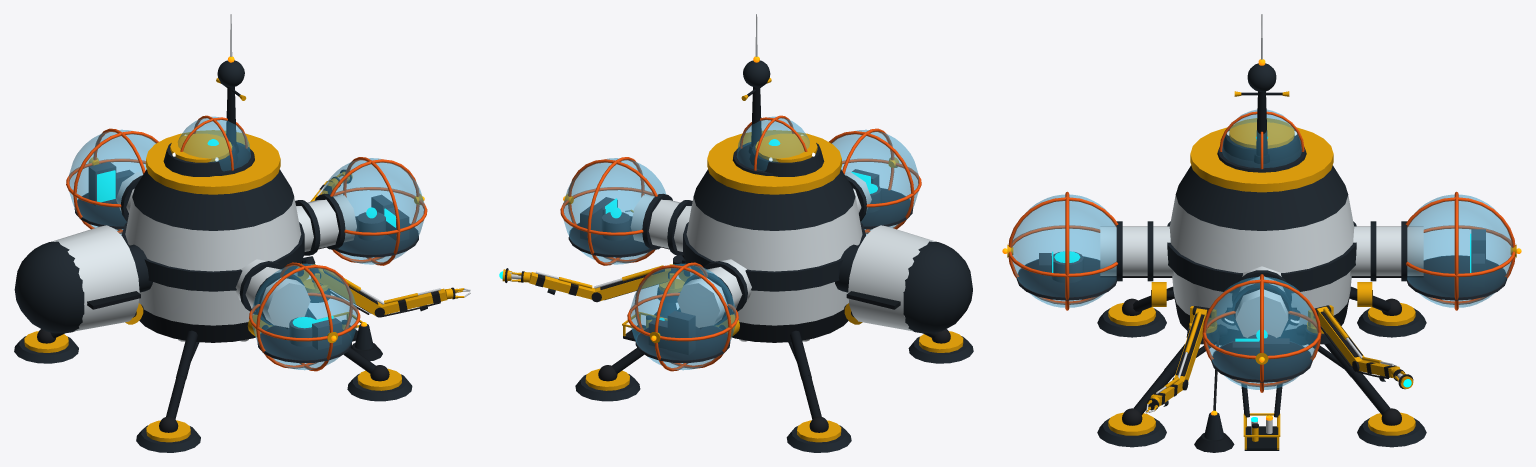
Rendered from demo-deep-sea-station.glb.
3 renders of one model, left to right at view 1: azimuth 30°, elevation 25°; view 2: azimuth 150°, elevation 25°; view 3: azimuth 270°, elevation 25°, orthographic. The views are drawn at different scales.
Visible parts, largest first — view 1: Mesh_Pod_Stbd_Glass, Mesh_Hull_UpperSection, Mesh_Pod_Fwd_Glass, Mesh_Hull_UpperTaper, Mesh_Reactor_Hull, Mesh_Reactor_EndCap, Mesh_Pod_Port_Glass, Mesh_Hull_UpperDeckRim, Mesh_Hull_MachineryBelt, Mesh_Hull_MidBelt, Mesh_Corridor_Stbd_Tube, Mesh_Cupola_Glass (+37 smaller); view 2: Mesh_Pod_Port_Glass, Mesh_Hull_UpperSection, Mesh_Pod_Fwd_Glass, Mesh_Hull_UpperTaper, Mesh_Reactor_Hull, Mesh_Reactor_EndCap, Mesh_Pod_Stbd_Glass, Mesh_Hull_UpperDeckRim, Mesh_Hull_MachineryBelt, Mesh_Hull_MidBelt, Mesh_Corridor_Port_Tube, Mesh_Cupola_Glass (+36 smaller); view 3: Mesh_Pod_Fwd_Glass, Mesh_Pod_Port_Glass, Mesh_Pod_Stbd_Glass, Mesh_Hull_UpperSection, Mesh_Hull_UpperTaper, Mesh_Hull_UpperDeckRim, Mesh_Cupola_Glass, Mesh_Hull_MidBelt, Mesh_Corridor_Stbd_Tube, Mesh_Corridor_Port_Tube, Mesh_Hull_MachineryBelt, Mesh_Pod_Port_Floor (+33 smaller).
Part boxes in pixels (bbox=[...]): Mesh_Pod_Stbd_Glass: bbox=[251, 263, 357, 370]; Mesh_Hull_UpperSection: bbox=[125, 197, 301, 271]; Mesh_Pod_Fwd_Glass: bbox=[322, 158, 424, 264]; Mesh_Hull_UpperTaper: bbox=[132, 169, 294, 230]; Mesh_Reactor_Hull: bbox=[52, 225, 139, 331]; Mesh_Reactor_EndCap: bbox=[14, 241, 84, 333]; Mesh_Pod_Port_Glass: bbox=[68, 129, 155, 235]; Mesh_Hull_UpperDeckRim: bbox=[146, 130, 280, 194]; Mesh_Hull_MachineryBelt: bbox=[138, 267, 298, 325]; Mesh_Hull_MidBelt: bbox=[121, 222, 304, 291]; Mesh_Corridor_Stbd_Tube: bbox=[235, 259, 310, 327]; Mesh_Cupola_Glass: bbox=[178, 116, 250, 170]; Mesh_Pod_Port_Glass: bbox=[630, 263, 736, 370]; Mesh_Hull_UpperSection: bbox=[686, 197, 862, 271]; Mesh_Pod_Fwd_Glass: bbox=[563, 158, 665, 264]; Mesh_Hull_UpperTaper: bbox=[693, 169, 855, 230]; Mesh_Reactor_Hull: bbox=[848, 225, 935, 331]; Mesh_Reactor_EndCap: bbox=[903, 241, 972, 333]; Mesh_Pod_Stbd_Glass: bbox=[831, 129, 919, 235]; Mesh_Hull_UpperDeckRim: bbox=[707, 130, 841, 194]; Mesh_Hull_MachineryBelt: bbox=[689, 267, 848, 325]; Mesh_Hull_MidBelt: bbox=[683, 222, 865, 291]; Mesh_Corridor_Port_Tube: bbox=[677, 259, 751, 327]; Mesh_Cupola_Glass: bbox=[737, 116, 809, 170]; Mesh_Pod_Fwd_Glass: bbox=[1205, 277, 1318, 389]; Mesh_Pod_Port_Glass: bbox=[1407, 194, 1512, 307]; Mesh_Pod_Stbd_Glass: bbox=[1011, 194, 1116, 307]; Mesh_Hull_UpperSection: bbox=[1169, 195, 1354, 272]; Mesh_Hull_UpperTaper: bbox=[1175, 165, 1348, 230]; Mesh_Hull_UpperDeckRim: bbox=[1190, 127, 1333, 192]; Mesh_Cupola_Glass: bbox=[1222, 109, 1301, 167]; Mesh_Hull_MidBelt: bbox=[1167, 221, 1356, 293]; Mesh_Corridor_Stbd_Tube: bbox=[1100, 226, 1173, 275]; Mesh_Corridor_Port_Tube: bbox=[1350, 226, 1423, 275]; Mesh_Hull_MachineryBelt: bbox=[1172, 271, 1351, 330]; Mesh_Pod_Port_Floor: bbox=[1407, 255, 1507, 300].
Size of the model in its own units: 13.52 by 11.2 by 14.14.
